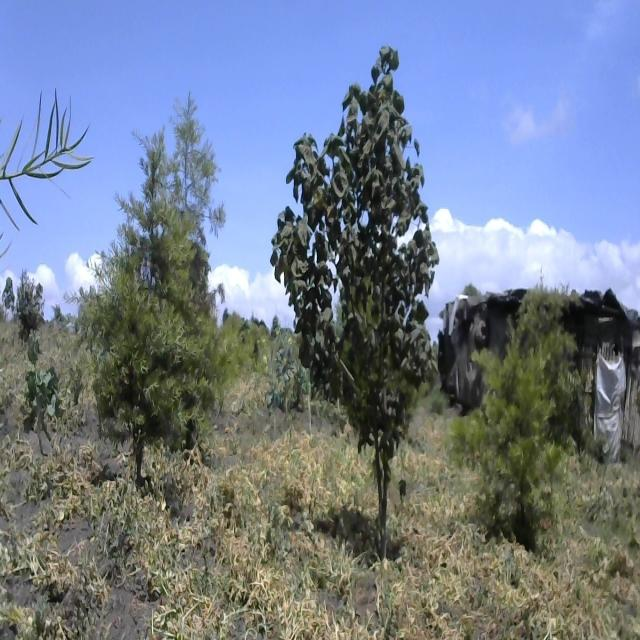Croton machrostychus: (269, 16, 445, 569)
Podocarpus falcatus: (72, 46, 234, 526), (467, 247, 585, 629)
